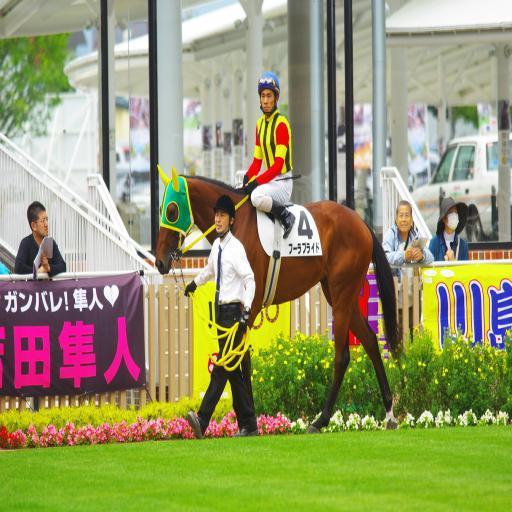horse: (152, 162, 408, 434)
